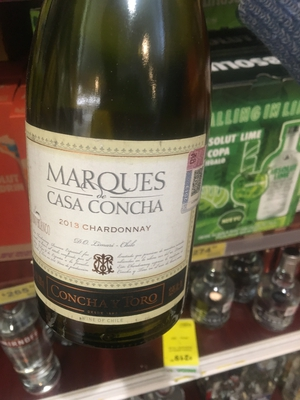marques de casa concha chardonnay: (28, 7, 217, 323)
